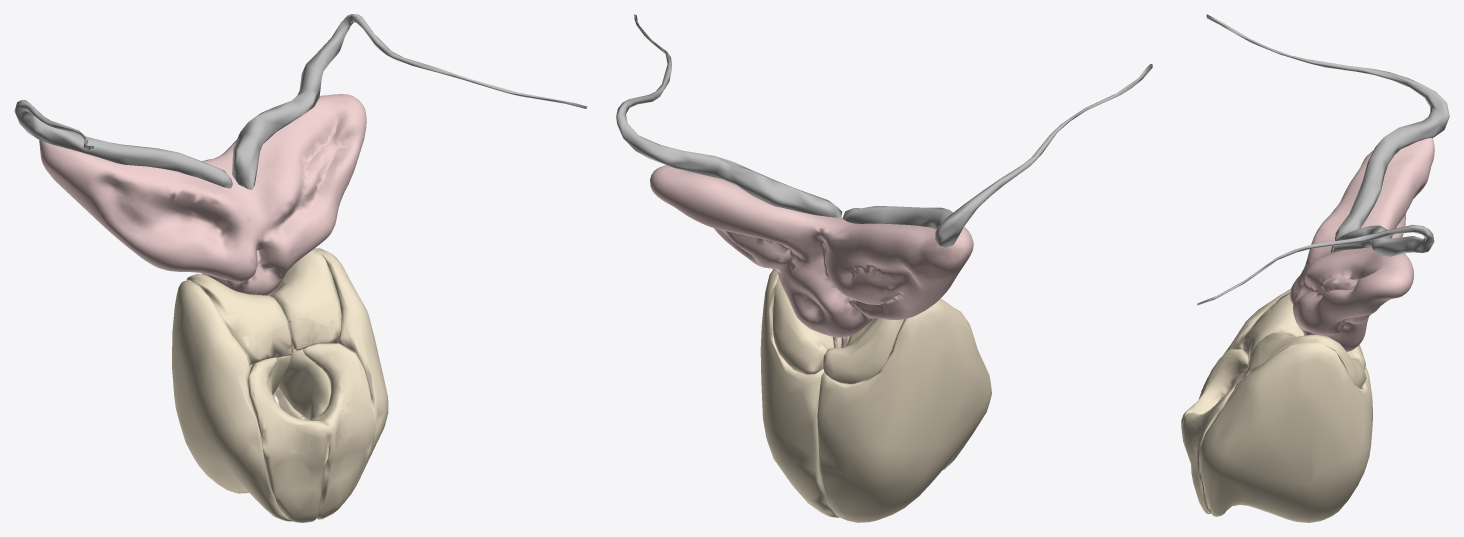
Rendered from vh_m_prostate-40.glb.
3 views of the same model, side by side, from view 1: azimuth 30°, elevation 25°; view 2: azimuth 150°, elevation 25°; view 3: azimuth 270°, elevation 25° (orthographic). The views are drawn at different scales.
Parts seen in each view (by area): view 1: VH_M_seminal_vesicle, VH_M_peripheral_zone_of_prostate_R, VH_M_anterior_fibromuscular_stroma_R, VH_M_anterior_fibromuscular_stroma_L, VH_M_vas_deferens_R, VH_M_vas_deferens_L, VH_M_base_of_prostate, VH_M_central_zone_of_prostate_L, VH_M_peripheral_zone_of_prostate_L, VH_M_central_zone_of_prostate_R, VH_M_transition_zone__of_prostate_L; view 2: VH_M_peripheral_zone_of_prostate_R, VH_M_seminal_vesicle, VH_M_peripheral_zone_of_prostate_L, VH_M_vas_deferens_R, VH_M_vas_deferens_L, VH_M_central_zone_of_prostate_R, VH_M_central_zone_of_prostate_L; view 3: VH_M_peripheral_zone_of_prostate_L, VH_M_seminal_vesicle, VH_M_vas_deferens_L, VH_M_vas_deferens_R, VH_M_central_zone_of_prostate_L, VH_M_central_zone_of_prostate_R, VH_M_anterior_fibromuscular_stroma_L, VH_M_base_of_prostate, VH_M_anterior_fibromuscular_stroma_R, VH_M_peripheral_zone_of_prostate_R.
Part boxes in pixels (box(x1,y1,x2,y2)): VH_M_seminal_vesicle: box(39, 94, 366, 295); VH_M_peripheral_zone_of_prostate_R: box(172, 280, 293, 521); VH_M_anterior_fibromuscular_stroma_R: box(248, 357, 329, 522); VH_M_anterior_fibromuscular_stroma_L: box(303, 343, 375, 519); VH_M_vas_deferens_R: box(232, 14, 587, 189); VH_M_vas_deferens_L: box(14, 100, 232, 188); VH_M_base_of_prostate: box(235, 317, 368, 454); VH_M_central_zone_of_prostate_L: box(267, 248, 341, 351); VH_M_peripheral_zone_of_prostate_L: box(273, 248, 388, 498); VH_M_central_zone_of_prostate_R: box(186, 273, 292, 364); VH_M_transition_zone__of_prostate_L: box(278, 344, 330, 419); VH_M_peripheral_zone_of_prostate_R: box(817, 299, 991, 522); VH_M_seminal_vesicle: box(650, 165, 973, 337); VH_M_peripheral_zone_of_prostate_L: box(760, 270, 838, 517); VH_M_vas_deferens_R: box(616, 14, 842, 217); VH_M_vas_deferens_L: box(842, 64, 1152, 247); VH_M_central_zone_of_prostate_R: box(822, 318, 903, 383); VH_M_central_zone_of_prostate_L: box(773, 277, 849, 374); VH_M_peripheral_zone_of_prostate_L: box(1199, 342, 1372, 522); VH_M_seminal_vesicle: box(1290, 138, 1434, 351); VH_M_vas_deferens_L: box(1206, 14, 1449, 240); VH_M_vas_deferens_R: box(1197, 224, 1434, 305); VH_M_central_zone_of_prostate_L: box(1243, 332, 1366, 388); VH_M_central_zone_of_prostate_R: box(1242, 292, 1365, 369); VH_M_anterior_fibromuscular_stroma_L: box(1182, 379, 1242, 514); VH_M_base_of_prostate: box(1184, 325, 1256, 446); VH_M_anterior_fibromuscular_stroma_R: box(1181, 349, 1248, 442); VH_M_peripheral_zone_of_prostate_R: box(1201, 289, 1372, 408).
Bounding box in the file's own units: 0.083 × 0.0706 × 0.0428.
